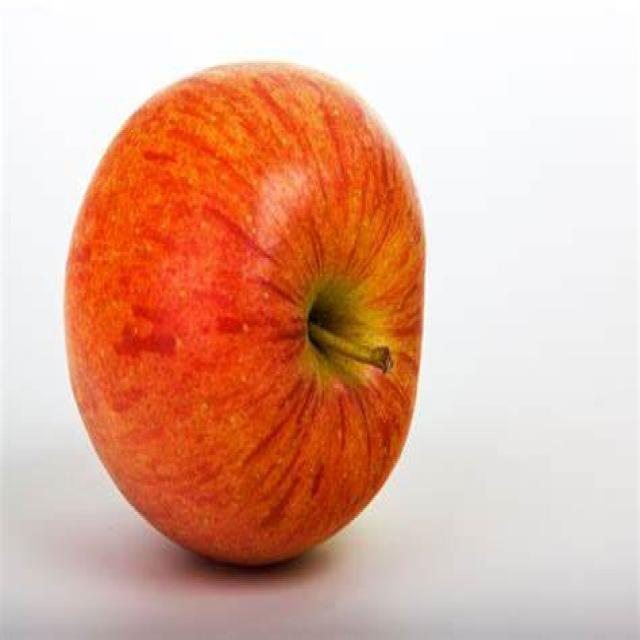Apple: (63, 62, 441, 566)
